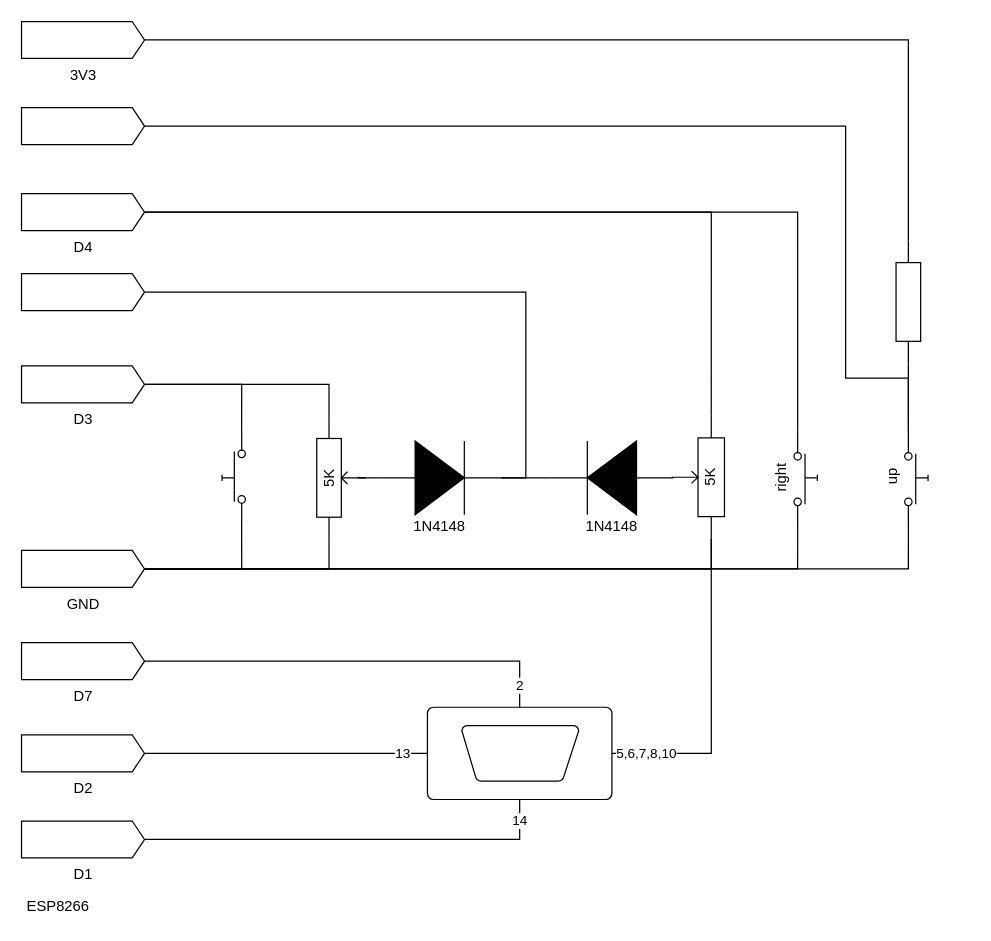
This 991x941 diagram has some shape labels left out. Here are the shapes that lost their labels. From the top down, the centre of each, then its label:
At point (82, 125): "D0".
At point (82, 291): "A0".
At point (908, 301): "10K".
At point (233, 477): "left".
At point (519, 753): "VGA".
